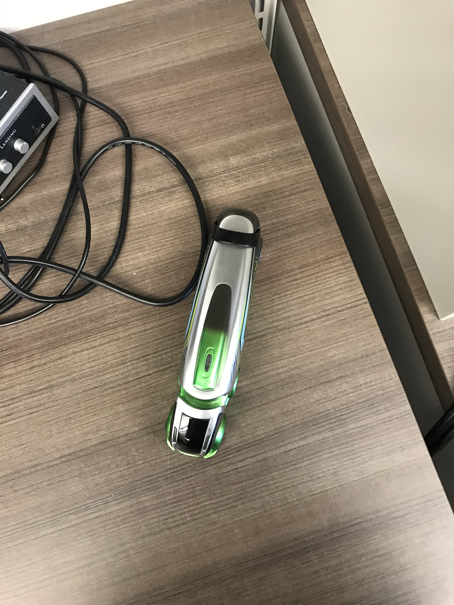Freewheel: (164, 207, 265, 461)
